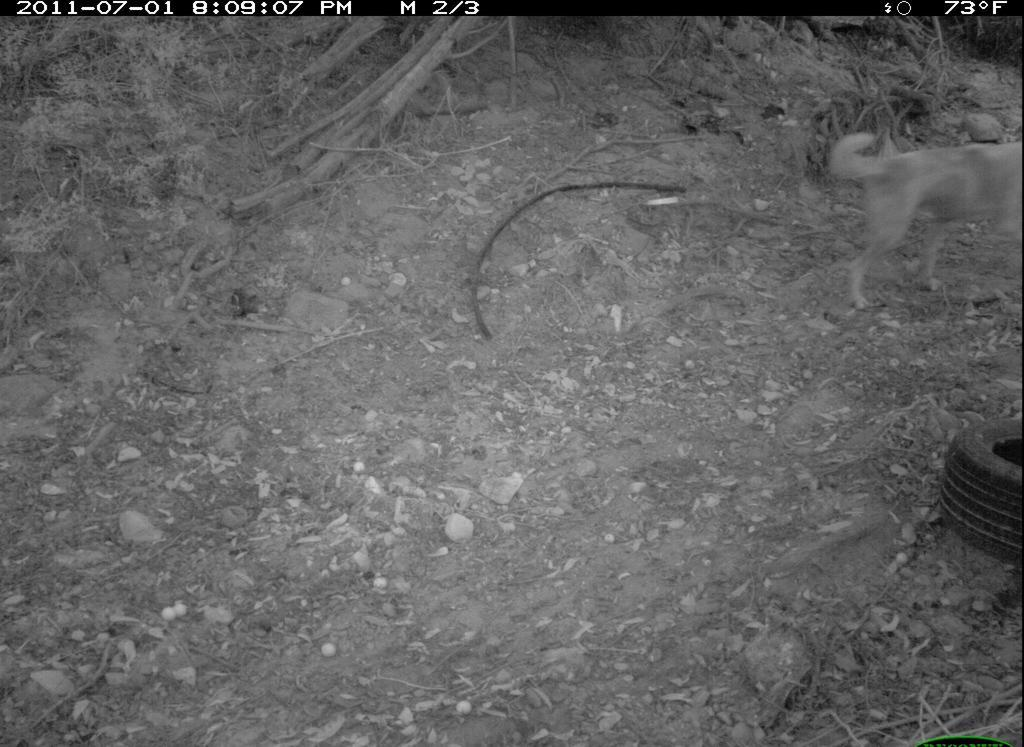dog: (818, 97, 1022, 312)
